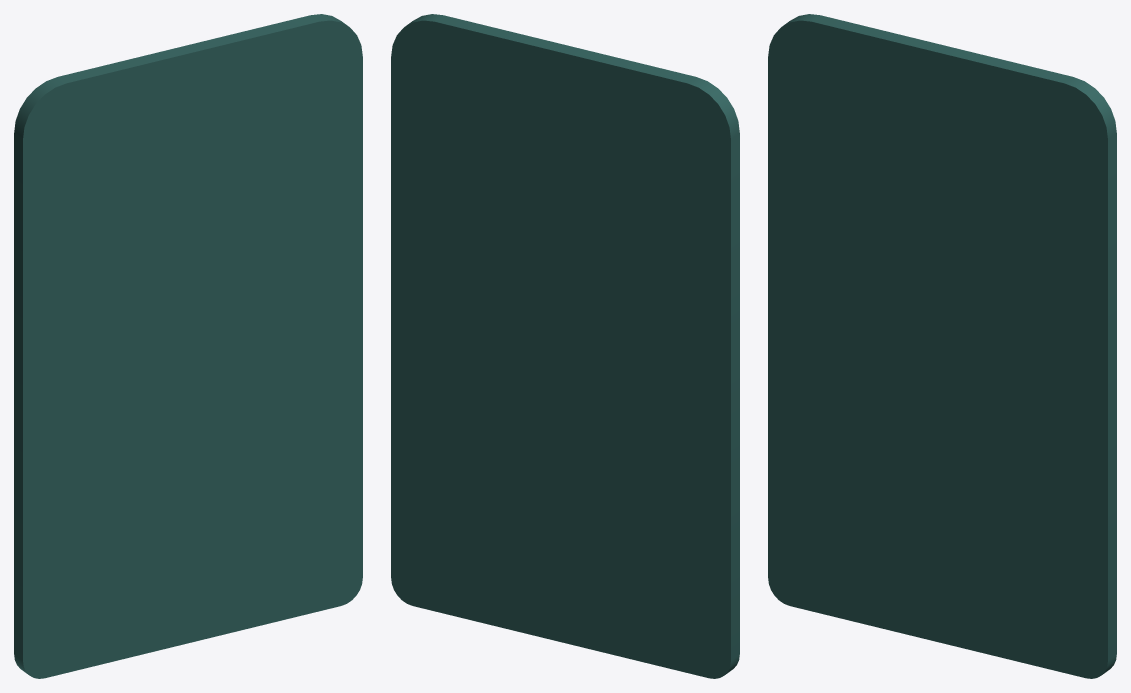
File: W2_DoorRound_2m.fbx
3 renders of one model, left to right at view 1: azimuth 30°, elevation 25°; view 2: azimuth 150°, elevation 25°; view 3: azimuth 330°, elevation 25°, orthographic.
Parts seen in each view (by area): view 1: W2_DoorRound_2m.001; view 2: W2_DoorRound_2m.001; view 3: W2_DoorRound_2m.001.
Boxes of the visible parts, x1=… form: W2_DoorRound_2m.001: x1=14, y1=14, x2=362, y2=678; W2_DoorRound_2m.001: x1=391, y1=14, x2=739, y2=678; W2_DoorRound_2m.001: x1=768, y1=14, x2=1116, y2=678.
Size of the model in its own units: 1.16 by 1.93 by 0.0525.
